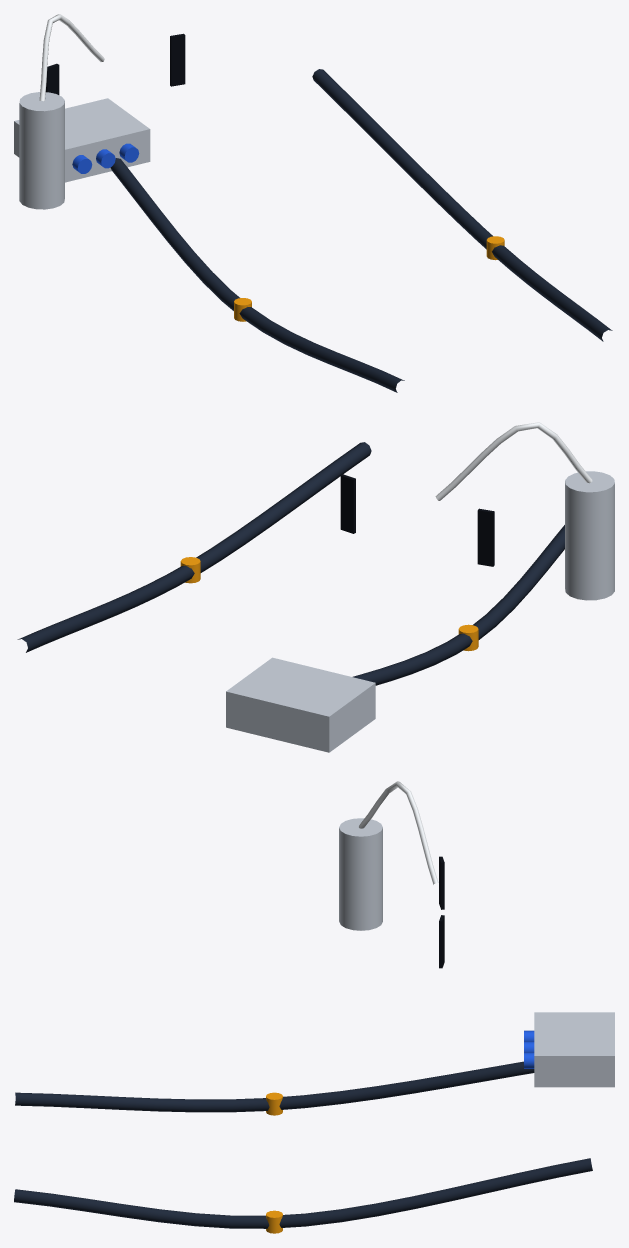
The model's file is cockpit_electronics.glb.
The picture shows the model from 3 angles, top to bottom: view 1: azimuth 30°, elevation 25°; view 2: azimuth 150°, elevation 25°; view 3: azimuth 270°, elevation 25°; orthographic projection. The views are drawn at different scales.
Parts seen in each view (by area): view 1: Cockpit_Motorsport_Electronics_Assembly, Motorsport_ECU_PDU_Unit; view 2: Cockpit_Motorsport_Electronics_Assembly, Motorsport_ECU_PDU_Unit; view 3: Cockpit_Motorsport_Electronics_Assembly, Motorsport_ECU_PDU_Unit.
Part boxes in pixels (x1,y1,x2,y2): Cockpit_Motorsport_Electronics_Assembly: (19, 14, 612, 392); Motorsport_ECU_PDU_Unit: (14, 98, 150, 182); Cockpit_Motorsport_Electronics_Assembly: (17, 422, 614, 685); Motorsport_ECU_PDU_Unit: (226, 657, 375, 752); Cockpit_Motorsport_Electronics_Assembly: (14, 781, 592, 1233); Motorsport_ECU_PDU_Unit: (524, 1012, 614, 1087).
Size of the model in its own units: 0.835 by 0.5174 by 1.04.
